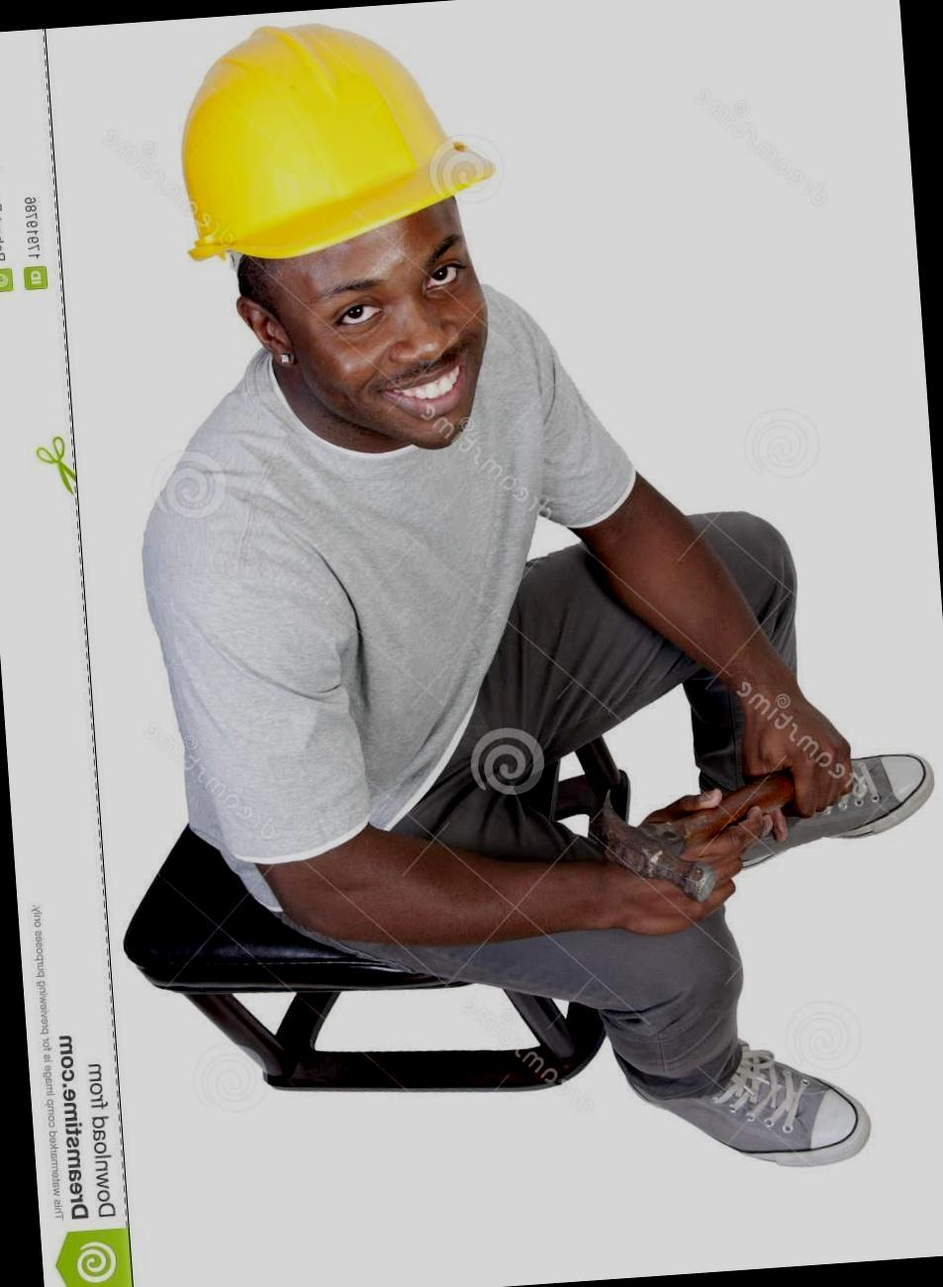helmet: (154, 20, 507, 275)
no_vest: (127, 304, 651, 912)
person: (52, 0, 943, 1231)
